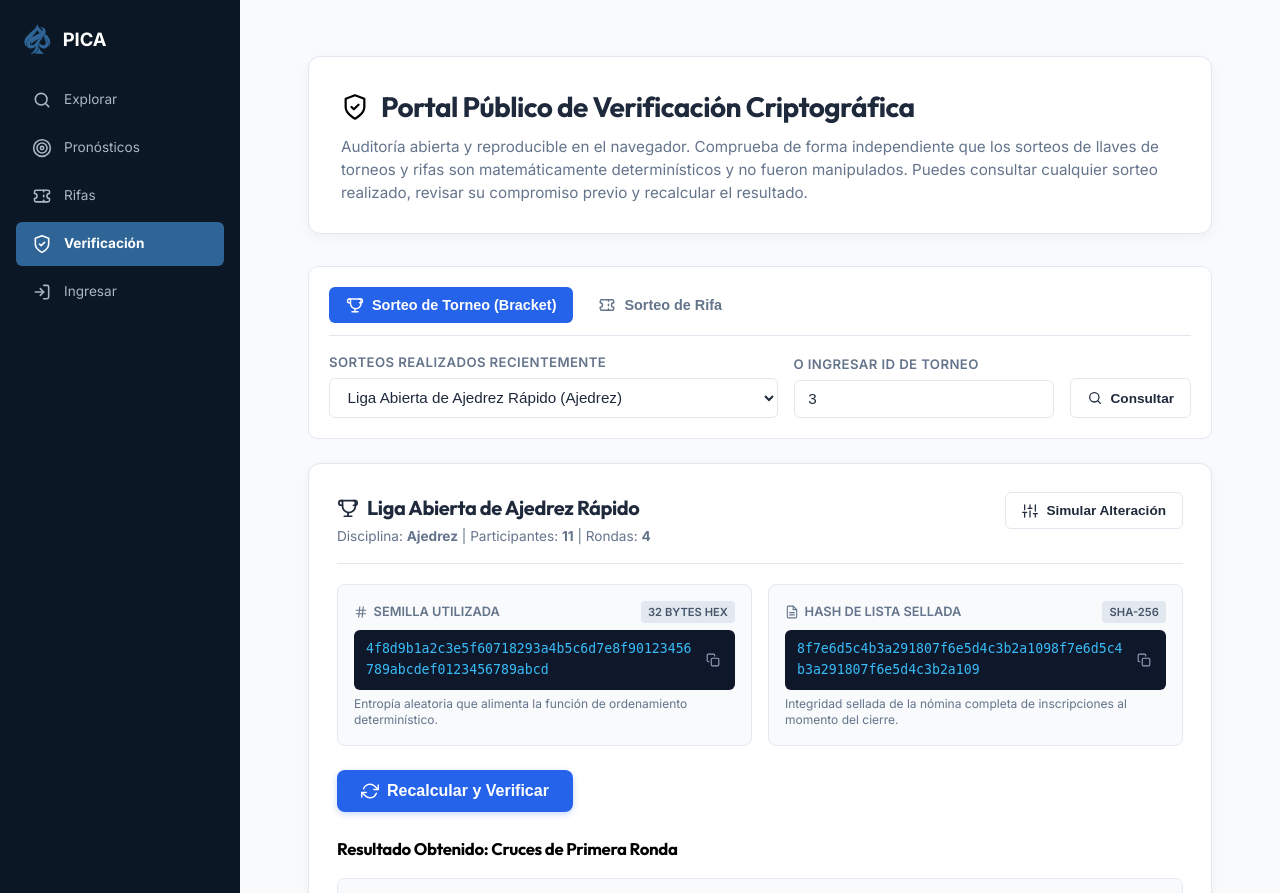
HU-505 / T505-1: Portal Público de Verificación (Integración) › Consultar torneo con BYEs (11 participantes) recalcula los cruces con BYE correctamente
expect the heading "Liga Abierta de Ajedrez Rápido" is shown: met, box [337,492,651,523]
Click the button with test id "btn-recalcular". click: (455, 791)
box: [337,770,573,812]
(page scrolled)
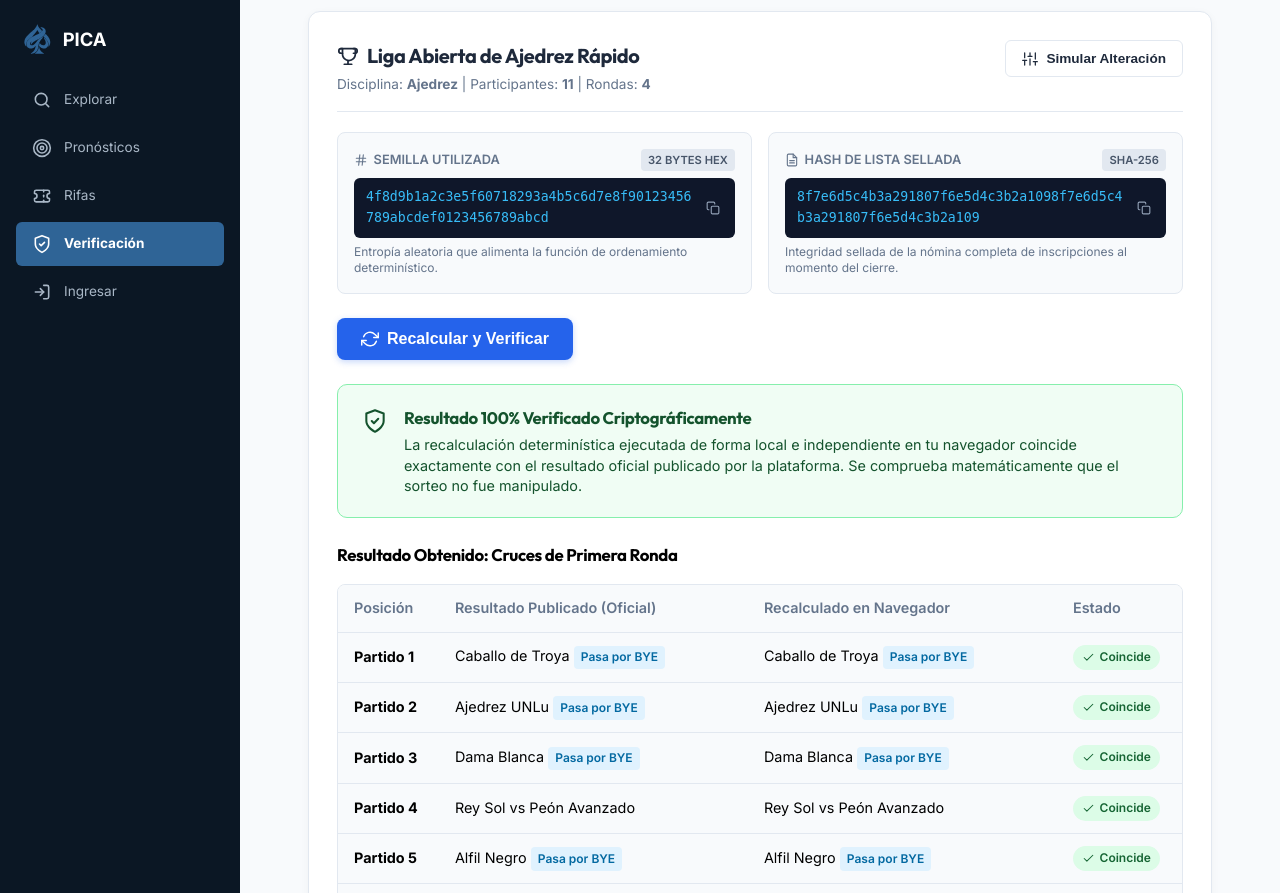
expect the element with test id "banner-verificacion-exitosa" is shown: met, box [337,384,1183,518]
